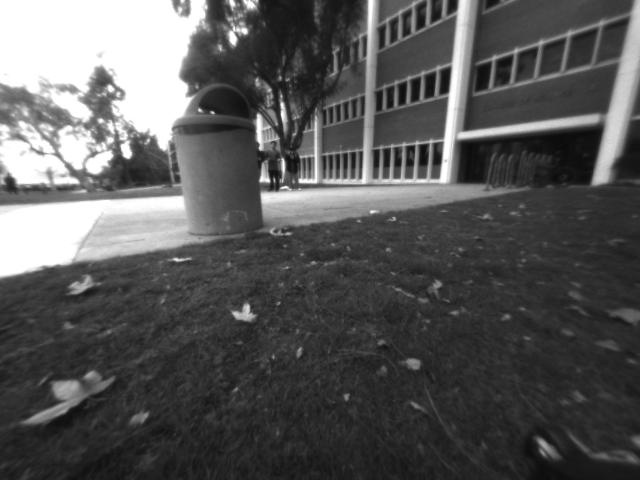trashcan: (167, 79, 273, 241)
